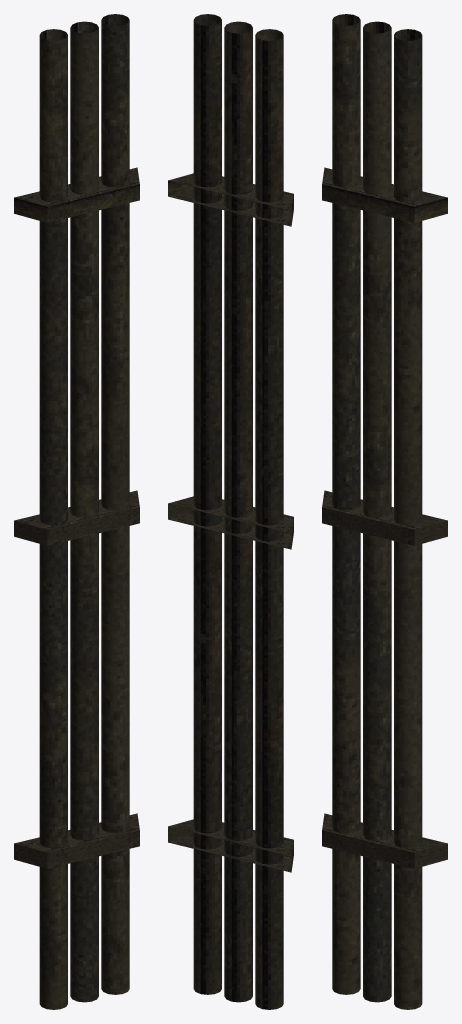
The model's file is pipes_hr_1.glb.
3 views of the same model, side by side, from view 1: azimuth 30°, elevation 25°; view 2: azimuth 150°, elevation 25°; view 3: azimuth 330°, elevation 25° (orthographic).
Visible parts, largest first — view 1: pipes_hr_1; view 2: pipes_hr_1; view 3: pipes_hr_1.
Part boxes in pixels (x1,y1,x2,y2): pipes_hr_1: (14,14,139,1009); pipes_hr_1: (168,14,293,1009); pipes_hr_1: (322,14,447,1009).
Bounding box in the file's own units: 0.4 × 3 × 0.1.
Materials: 1 (1 with a texture image).
